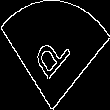P_SW: (32, 24, 78, 86)
